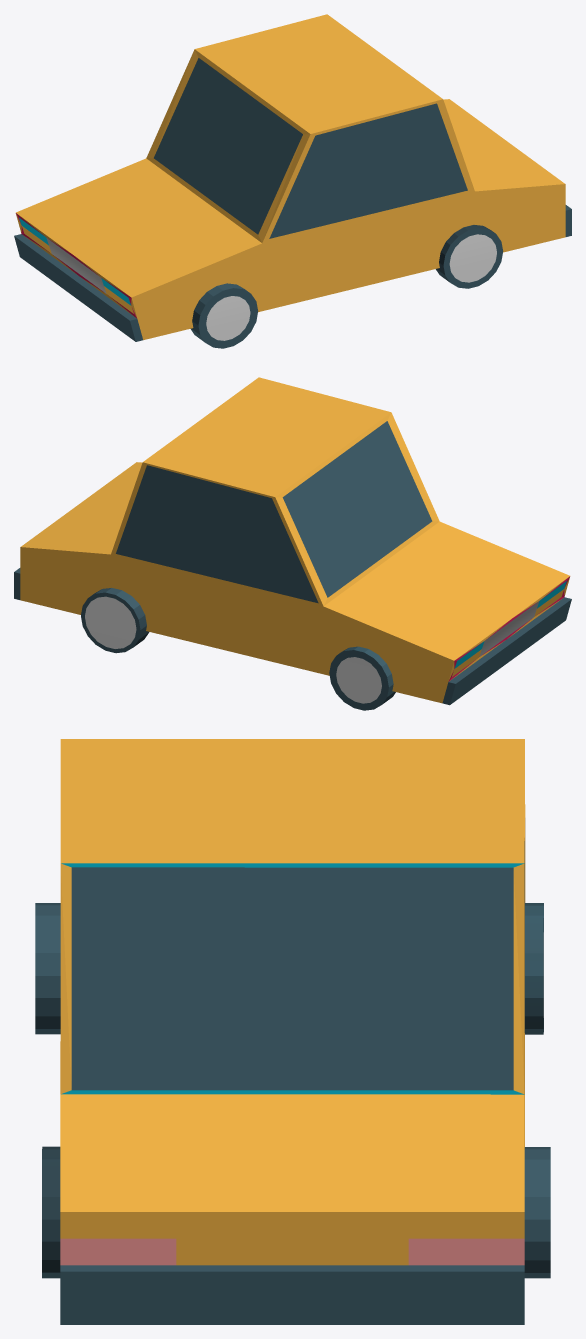
Rendered from car_04_world_ap_0_lev1.glb.
The picture shows the model from 3 angles, top to bottom: view 1: azimuth 30°, elevation 25°; view 2: azimuth 150°, elevation 25°; view 3: azimuth 270°, elevation 25°; orthographic projection. The views are drawn at different scales.
Visible parts, largest first — view 1: car_04_world_ap_0_lev1; view 2: car_04_world_ap_0_lev1; view 3: car_04_world_ap_0_lev1.
Part boxes in pixels (x1=…): car_04_world_ap_0_lev1: x1=14, y1=14, x2=571, y2=348; car_04_world_ap_0_lev1: x1=14, y1=377, x2=571, y2=710; car_04_world_ap_0_lev1: x1=35, y1=739, x2=550, y2=1324.
Size of the model in its own units: 1.47 by 0.6093 by 0.7441.
1 material, 1 textured.
